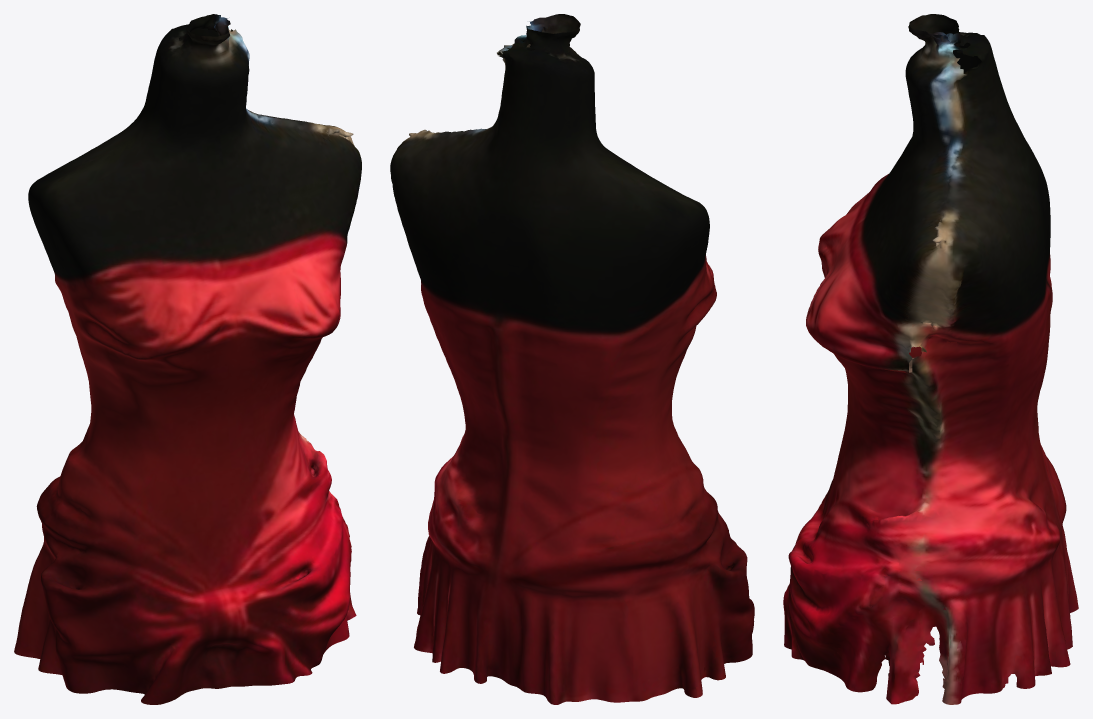
The picture shows the model from 3 angles, left to right: view 1: azimuth 30°, elevation 25°; view 2: azimuth 150°, elevation 25°; view 3: azimuth 270°, elevation 25°; orthographic projection. The views are drawn at different scales.
Visible parts, largest first — view 1: Model; view 2: Model; view 3: Model.
Part boxes in pixels (<box>): Model: <box>14,14,361,704</box>; Model: <box>390,14,754,704</box>; Model: <box>783,14,1078,704</box>.
Size of the model in its own units: 0.4139 by 0.7335 by 0.3181.
Materials: 1 (1 with a texture image).
